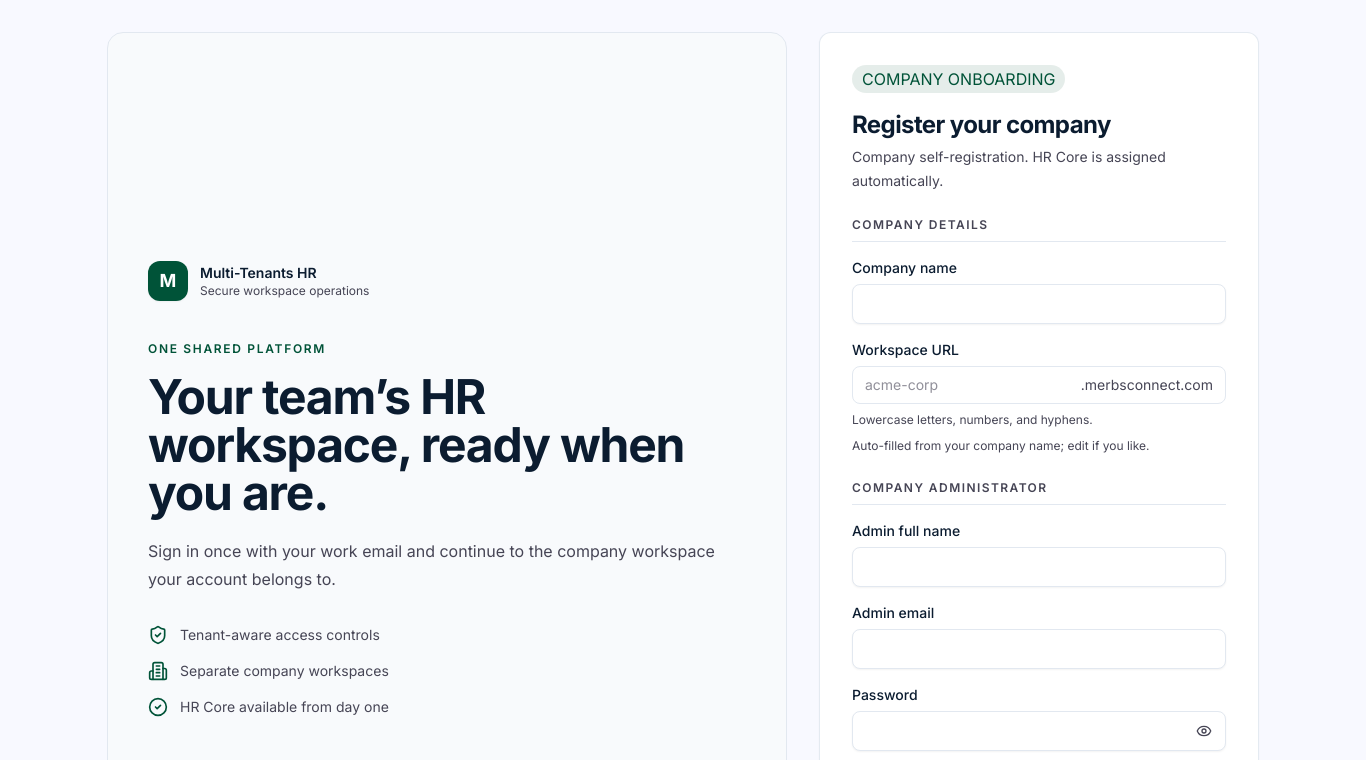
RegisterPage UX › surfaces a duplicate-slug conflict inline on the slug field
Type "Rich Co" into the field labelled "Company name" at (1039, 304), box [852, 284, 1226, 324]
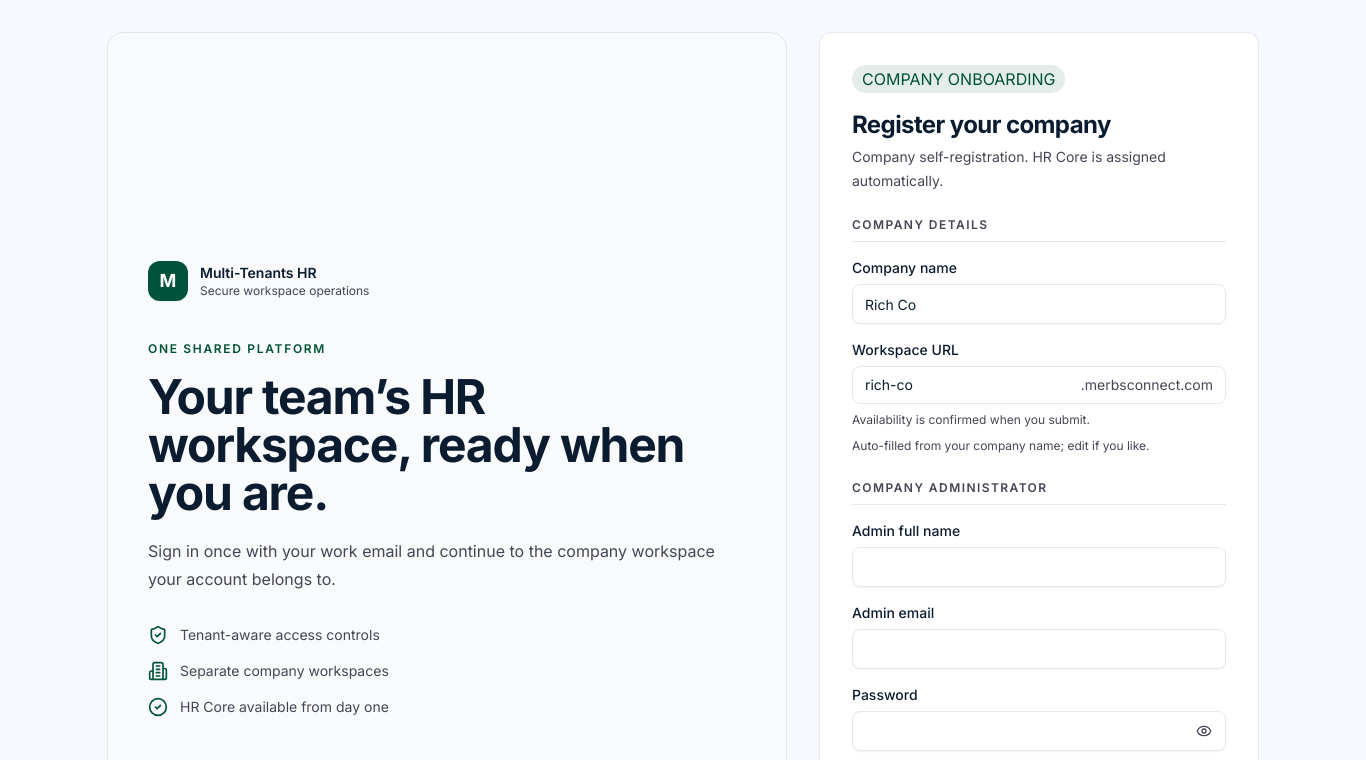
Type "Rich Owner" into the field labelled "Admin full name" at (1039, 567), box [852, 547, 1226, 587]
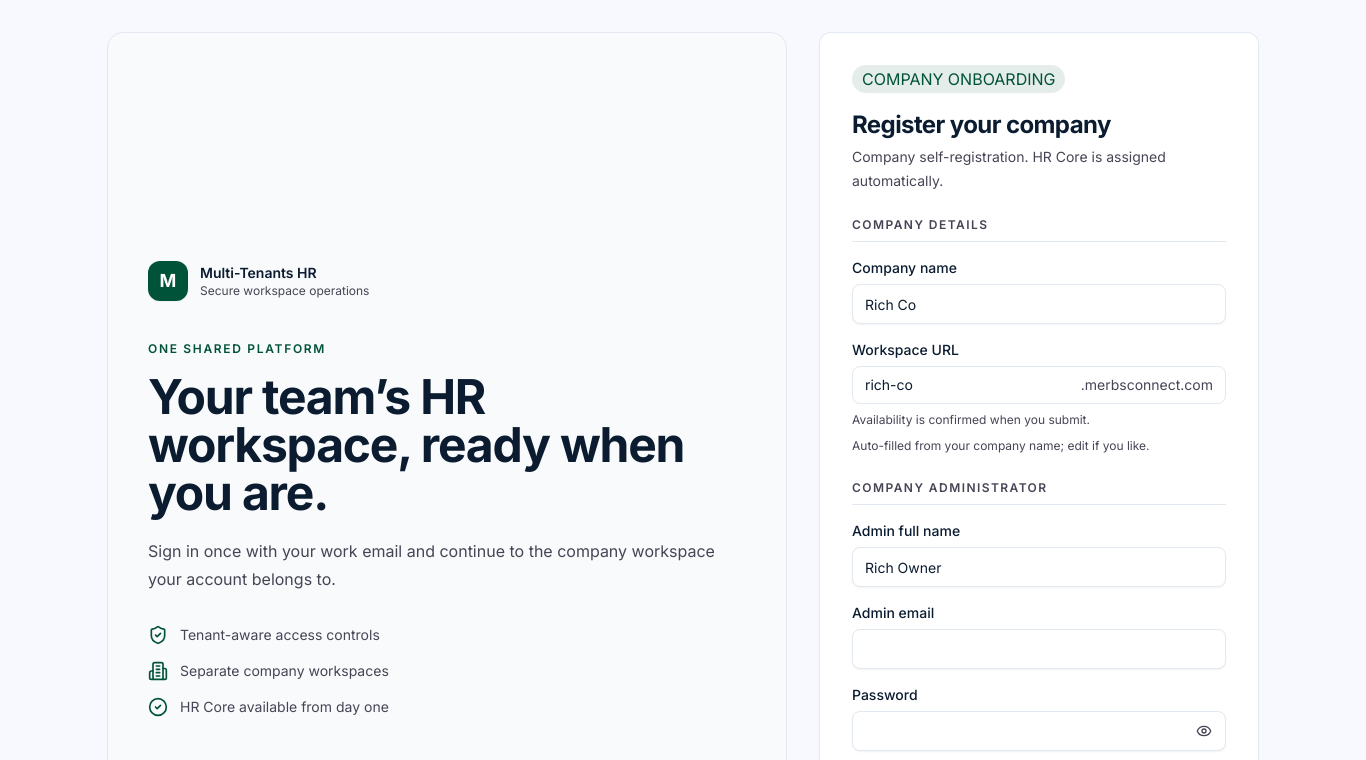
Type "owner@rich.co" into the field labelled "Admin email" at (1039, 649), box [852, 629, 1226, 669]
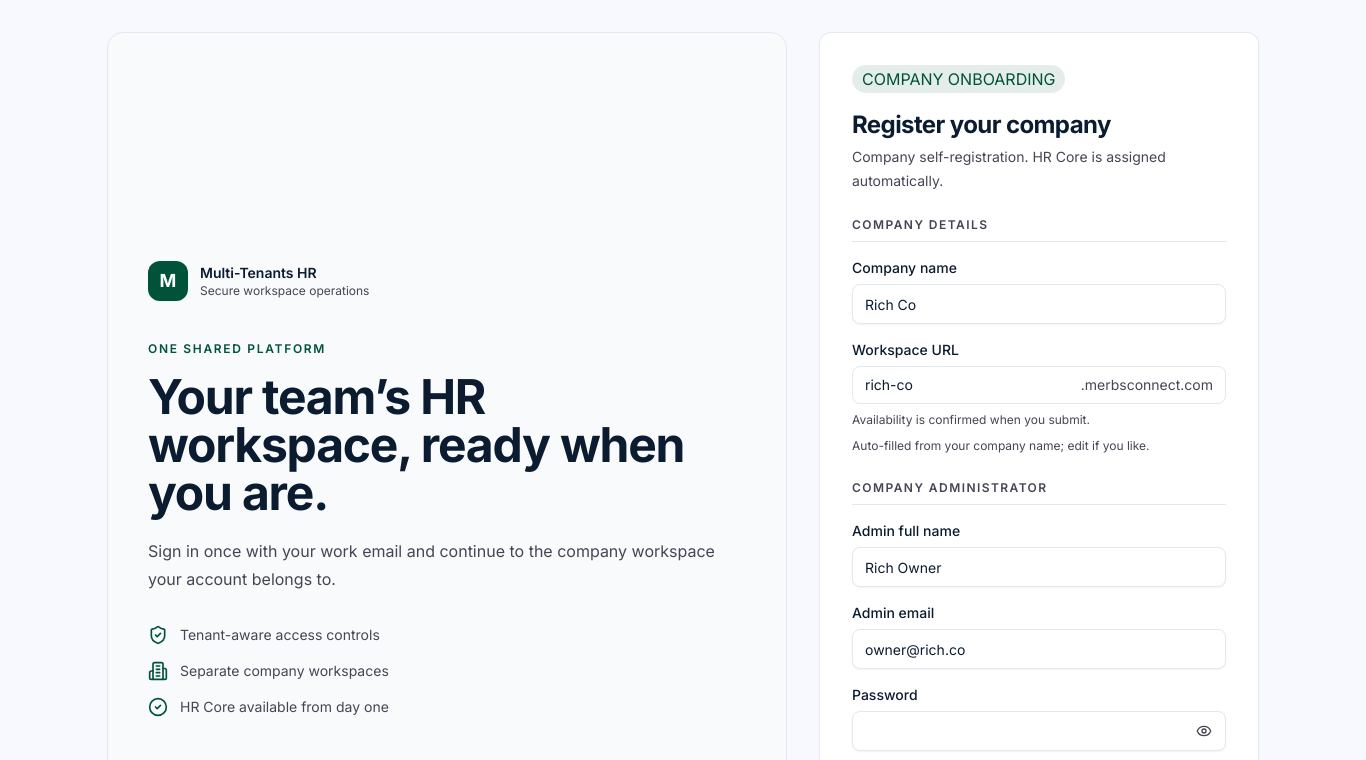
Type "Str0ngPass1" into the password field labelled "Password" at (1039, 731), box [852, 711, 1226, 751]
(page scrolled)
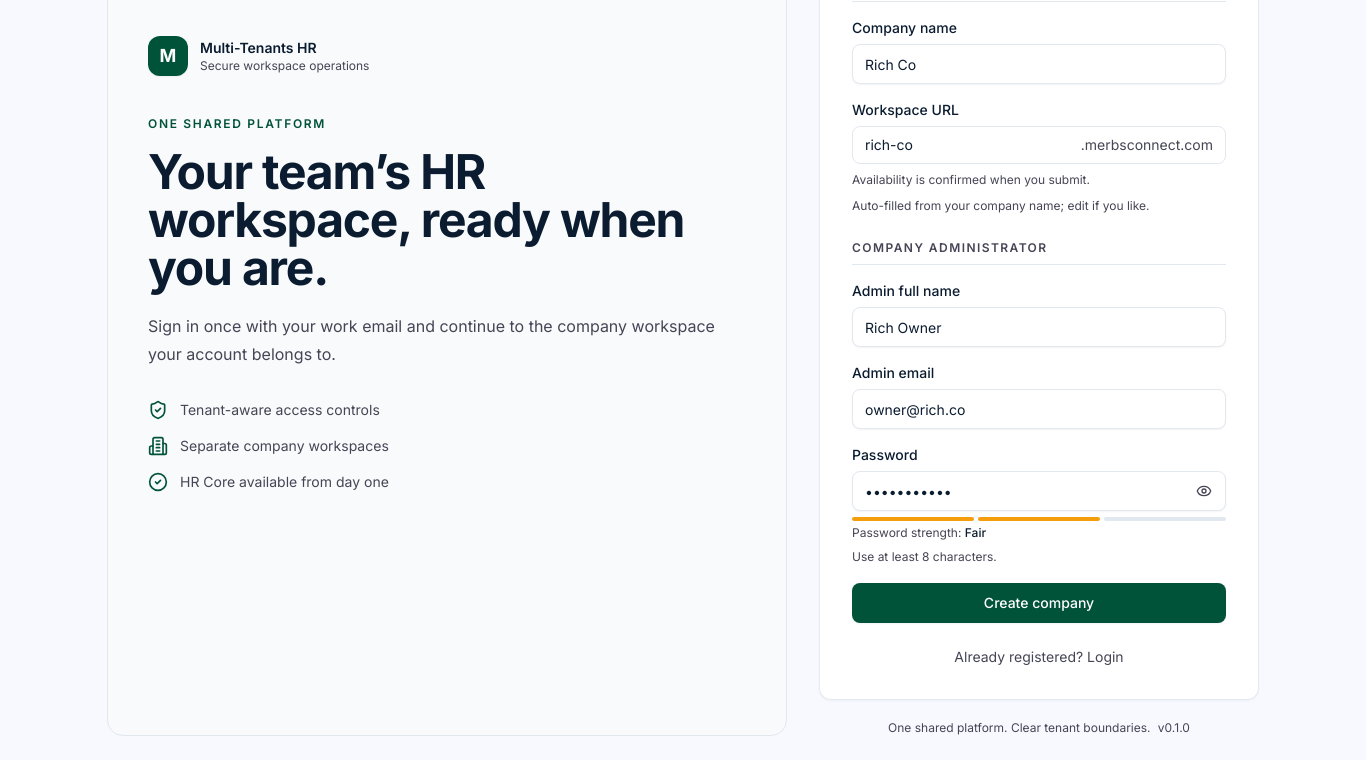
Click the button "Create company" at (1039, 603), box [852, 583, 1226, 623]
(page scrolled)
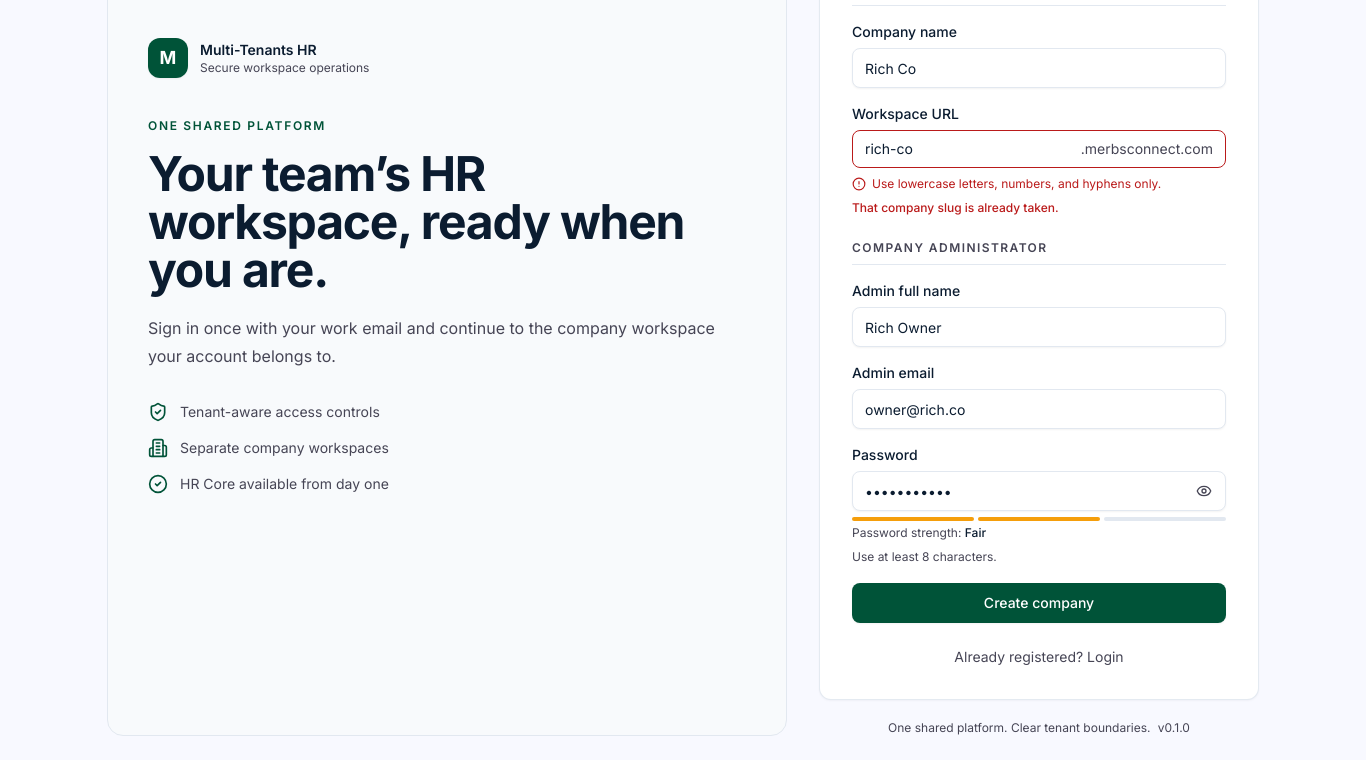
Expected: the number of messages is 1, [852, 200, 1059, 215]
